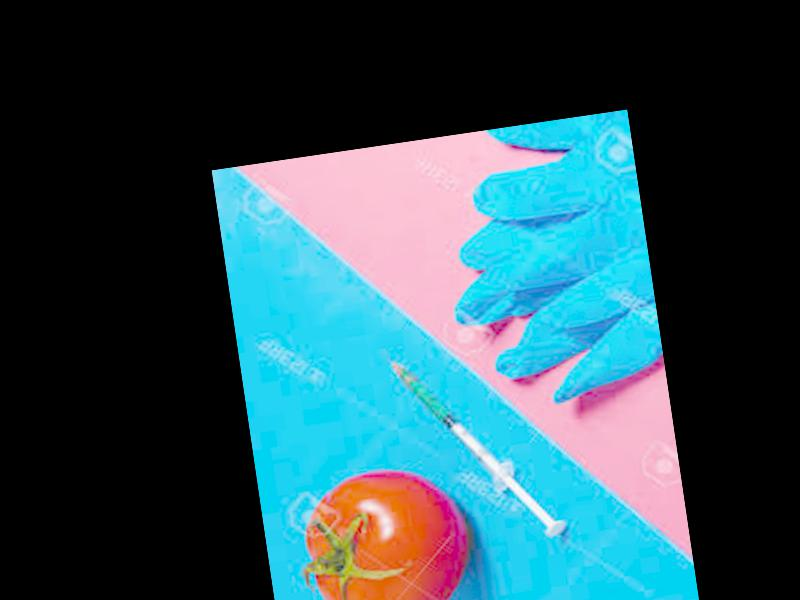Tomato: (299, 459, 481, 600)
